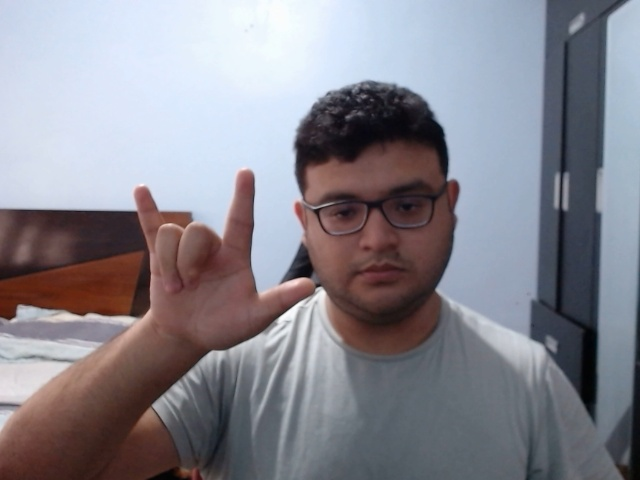I love you: (125, 168, 319, 366)
